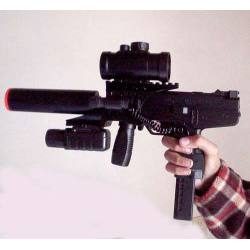rifle: (3, 35, 162, 177)
rifle in hand: (3, 28, 247, 235)
